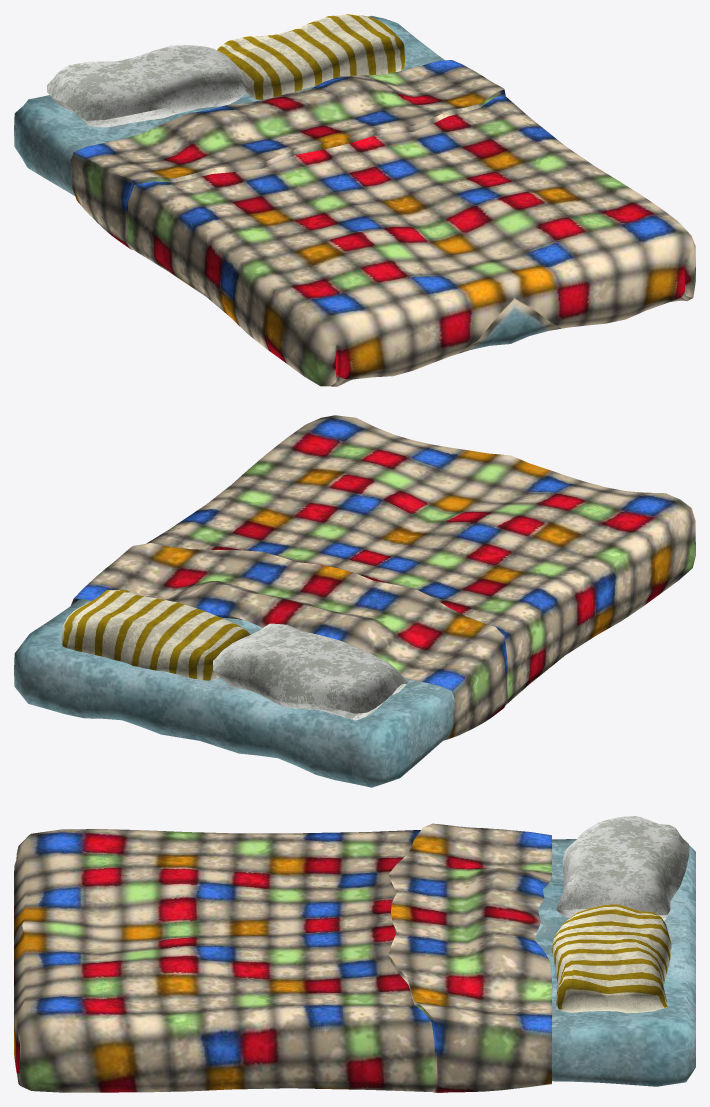
Rendered from Bed_2.glb.
3 views of the same model, one above another, from view 1: azimuth 30°, elevation 25°; view 2: azimuth 150°, elevation 25°; view 3: azimuth 270°, elevation 25° (orthographic). The views are drawn at different scales.
Visible parts, largest first — view 1: Bed_2; view 2: Bed_2; view 3: Bed_2.
Part boxes in pixels (x1=…): Bed_2: x1=14, y1=14, x2=695, y2=386; Bed_2: x1=14, y1=415, x2=695, y2=787; Bed_2: x1=14, y1=816, x2=695, y2=1092.
Bounding box in the file's own units: 1.37 × 0.3442 × 1.95.
Materials: 3 (3 with a texture image).
